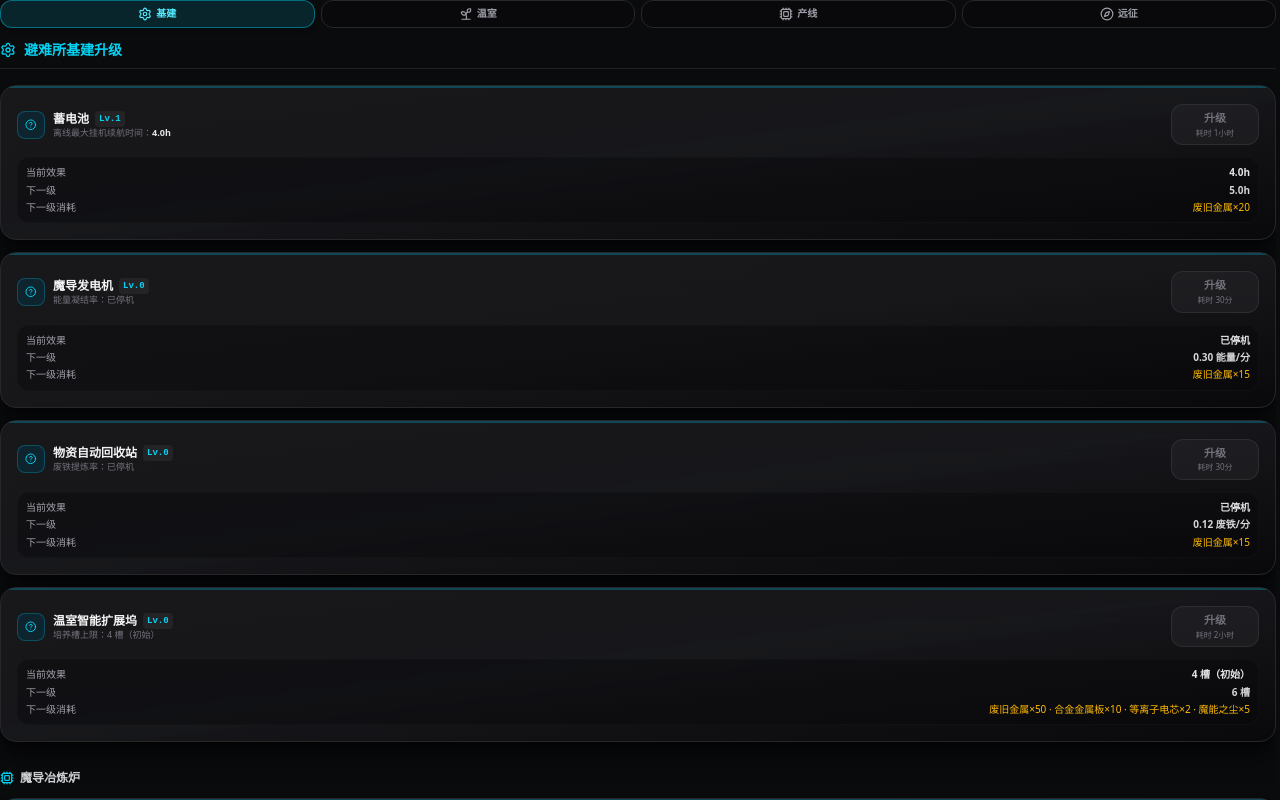
Test: 生产/取消弹窗（issue 08 变体 B） › 材料不足时滑条禁用、开始按钮禁用并提示
Click the button "产线". click: point(798, 14)
box: [641,0,956,28]
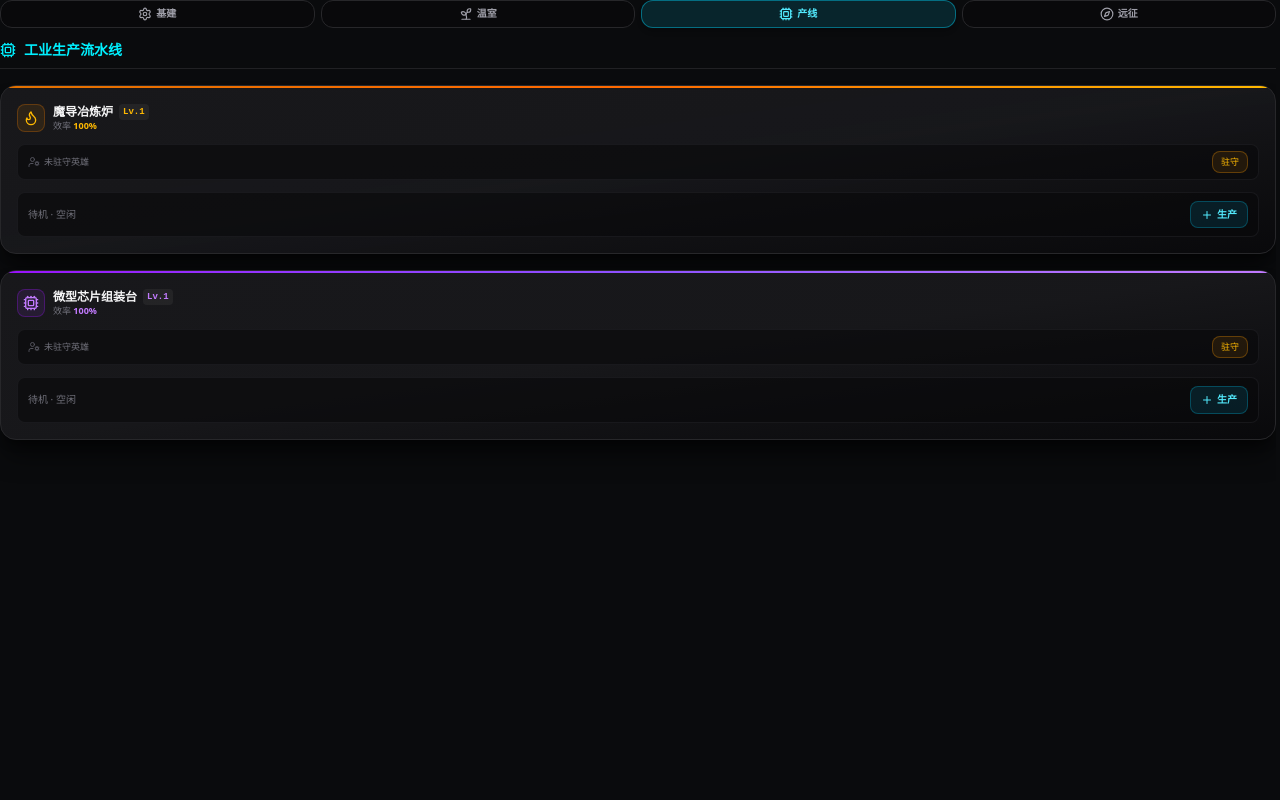
Click the button with test id "start-task-btn-smelter-0". click: point(1219, 215)
box: [1190,201,1248,228]
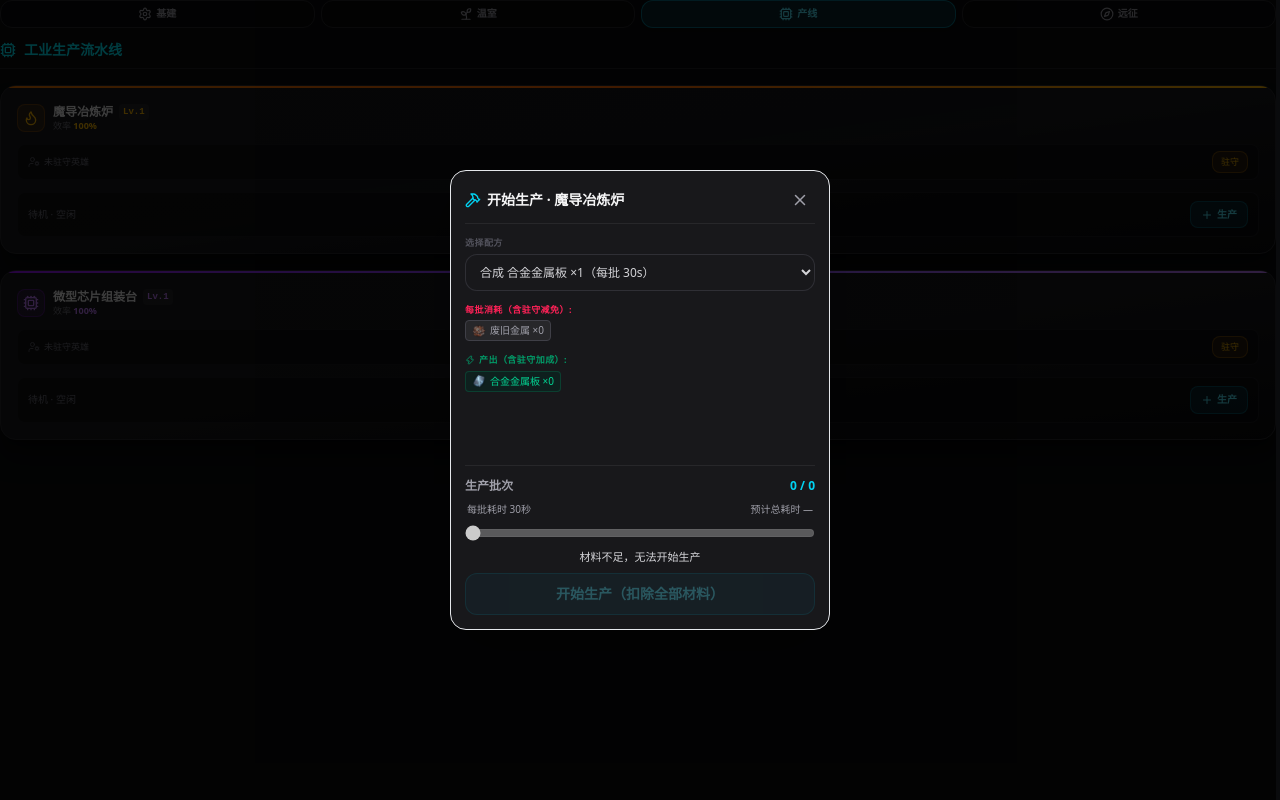
Expected: the slider with test id "start-task-slider" is disabled, [465,524,815,540]
Expected: the button with test id "start-task-button" is disabled, [465,573,815,615]
Expected: the text "材料不足，无法开始生产" is shown, [580,548,700,564]
